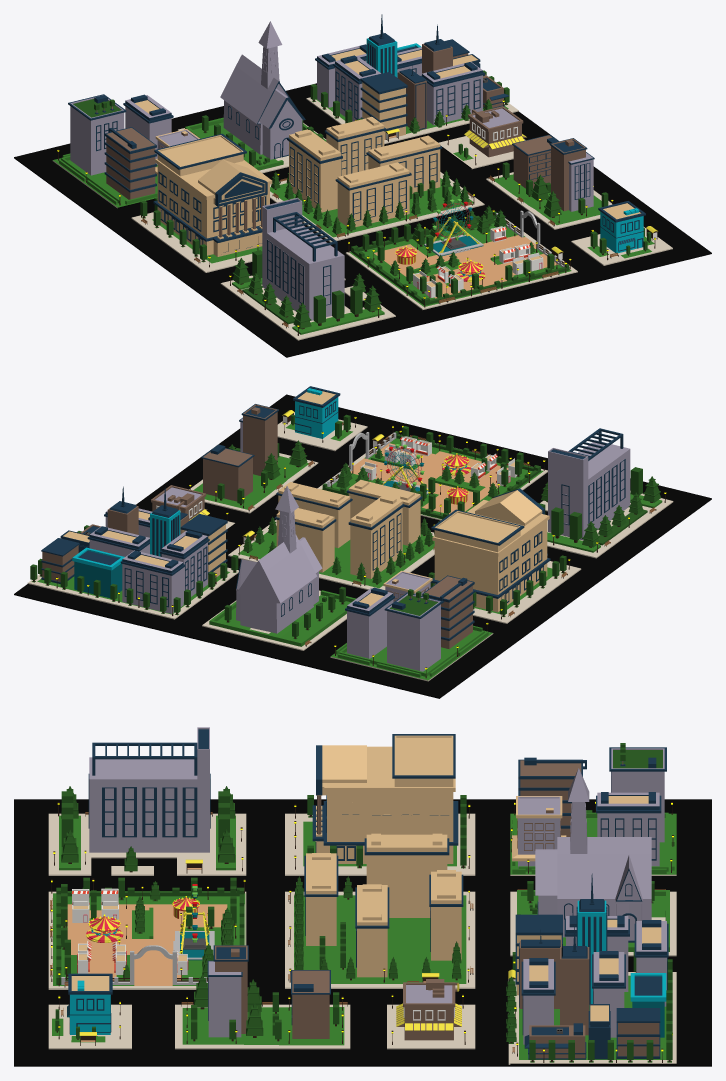
Rendered from city.fbx.
3 views of the same model, one above another, from view 1: azimuth 30°, elevation 25°; view 2: azimuth 150°, elevation 25°; view 3: azimuth 270°, elevation 25° (orthographic). The views are drawn at different scales.
Visible parts, largest first — view 1: wh, Cube.282, Cube.023, Cube.013, Cube.025, Cube.028, Cube.020, Cube.019, Cube.009, Cube.015, Cube.018, Cube.030 (+16 smaller); view 2: wh, Cube.282, Cube.013, Cube.023, Cube.020, Cube.028, Cube.012, Cube.011, Cube.019, Cube.008, Cube.015, Cube.025 (+14 smaller); view 3: wh, Cube.282, Cube.023, Cube.013, Cube.028, Cube.015, Cube.014, Cube.011, Cube.018, Cube.025, Cube.026, Cube.017 (+19 smaller).
Part boxes in pixels (bbox=[...]): wh: bbox=[14, 83, 711, 357]; Cube.282: bbox=[153, 133, 272, 256]; Cube.023: bbox=[262, 197, 344, 320]; Cube.013: bbox=[220, 21, 305, 159]; Cube.025: bbox=[335, 162, 411, 226]; Cube.028: bbox=[287, 129, 342, 212]; Cube.020: bbox=[68, 94, 126, 175]; Cube.019: bbox=[104, 127, 156, 199]; Cube.009: bbox=[420, 61, 484, 125]; Cube.015: bbox=[549, 138, 594, 211]; Cube.018: bbox=[366, 135, 442, 193]; Cube.030: bbox=[351, 210, 569, 305]; wh: bbox=[14, 394, 711, 698]; Cube.282: bbox=[430, 488, 550, 612]; Cube.013: bbox=[236, 486, 322, 633]; Cube.023: bbox=[548, 428, 630, 540]; Cube.020: bbox=[384, 589, 442, 671]; Cube.028: bbox=[348, 495, 404, 578]; Cube.012: bbox=[120, 550, 185, 613]; Cube.011: bbox=[345, 587, 394, 658]; Cube.019: bbox=[422, 575, 474, 648]; Cube.008: bbox=[201, 444, 254, 501]; Cube.015: bbox=[239, 404, 278, 475]; Cube.025: bbox=[346, 479, 422, 545]; wh: bbox=[14, 799, 711, 1066]; Cube.282: bbox=[312, 734, 458, 863]; Cube.023: bbox=[88, 727, 210, 852]; Cube.013: bbox=[535, 768, 651, 942]; Cube.028: bbox=[364, 833, 449, 917]; Cube.015: bbox=[207, 945, 248, 1037]; Cube.014: bbox=[396, 979, 461, 1040]; Cube.011: bbox=[596, 792, 661, 866]; Cube.018: bbox=[355, 884, 389, 977]; Cube.025: bbox=[304, 853, 338, 945]; Cube.026: bbox=[429, 870, 463, 960]; Cube.017: bbox=[512, 796, 566, 868].
Size of the model in its own units: 20227 by 5956 by 22441.
